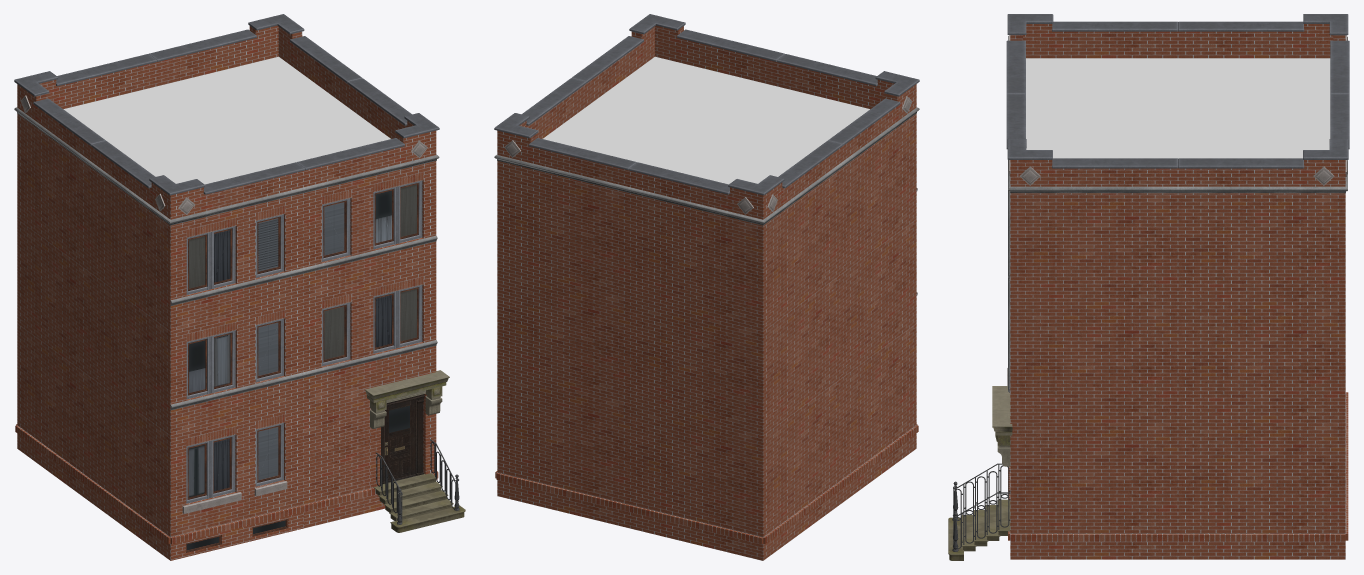
The model's file is House_14.fbx.
3 views of the same model, side by side, from view 1: azimuth 30°, elevation 25°; view 2: azimuth 150°, elevation 25°; view 3: azimuth 270°, elevation 25° (orthographic). The views are drawn at different scales.
Visible parts, largest first — view 1: House_14_LOD0; view 2: House_14_LOD0; view 3: House_14_LOD0.
Boxes of the visible parts, x1,y1,x2,y2 form: House_14_LOD0: (14,14,465,560); House_14_LOD0: (494,14,919,560); House_14_LOD0: (948,14,1349,560).
Size of what is drawn, in the model's own units: 824 by 1063 by 957.
